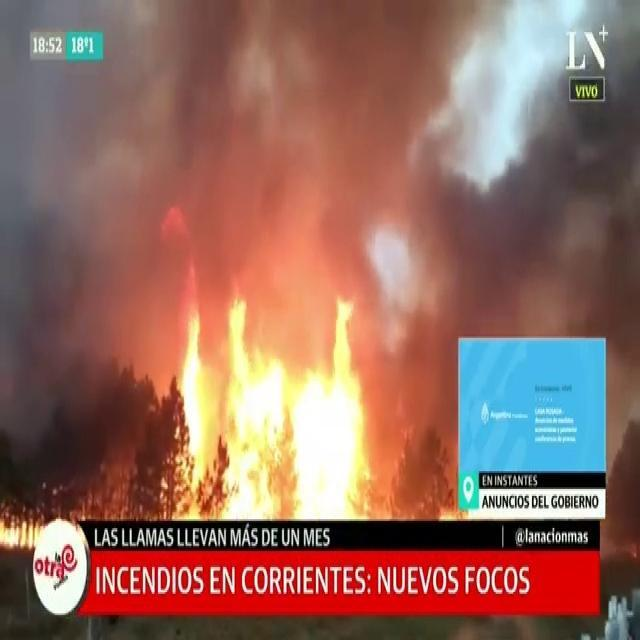Fire: (150, 270, 387, 524)
Smoke: (53, 0, 529, 338)
